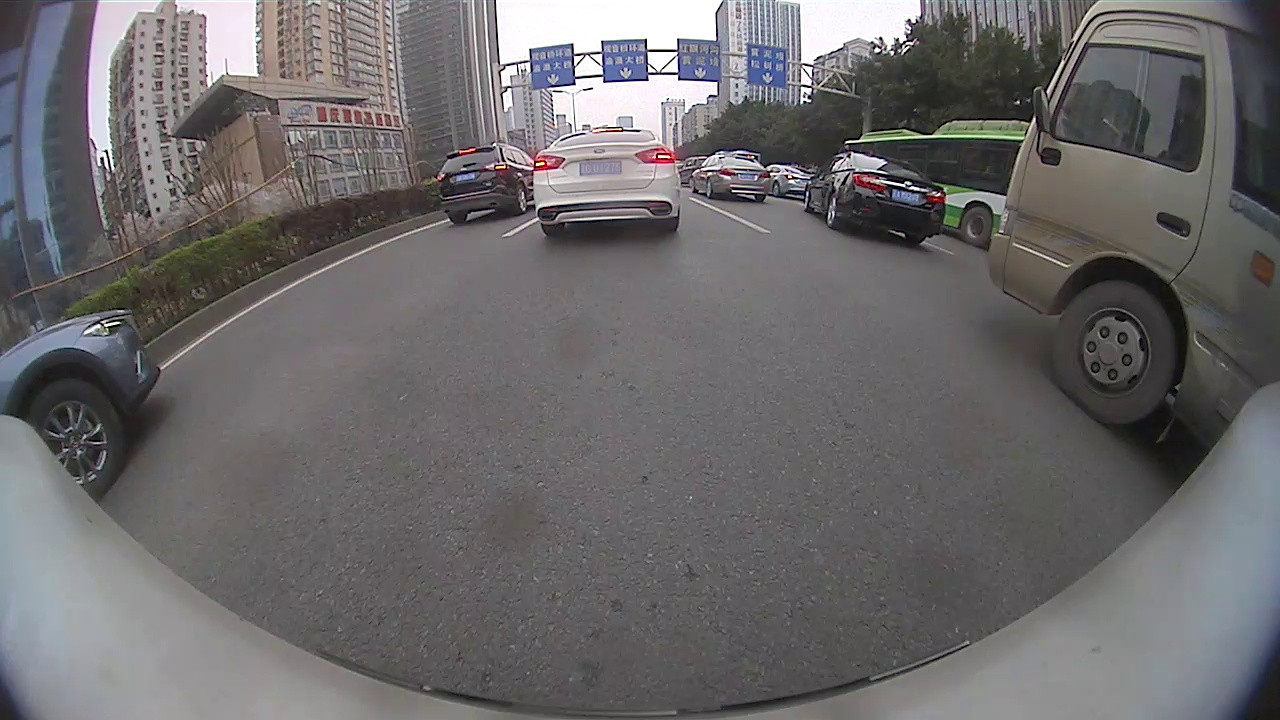bus: (989, 0, 1277, 448), (842, 117, 1026, 246)
car: (0, 311, 161, 496), (534, 130, 684, 233), (802, 153, 944, 249), (434, 140, 532, 225), (690, 154, 773, 205), (770, 165, 808, 197)
front: (1051, 279, 1177, 424), (27, 374, 126, 504)
rear: (962, 206, 993, 248), (825, 194, 840, 227), (515, 181, 528, 215)
